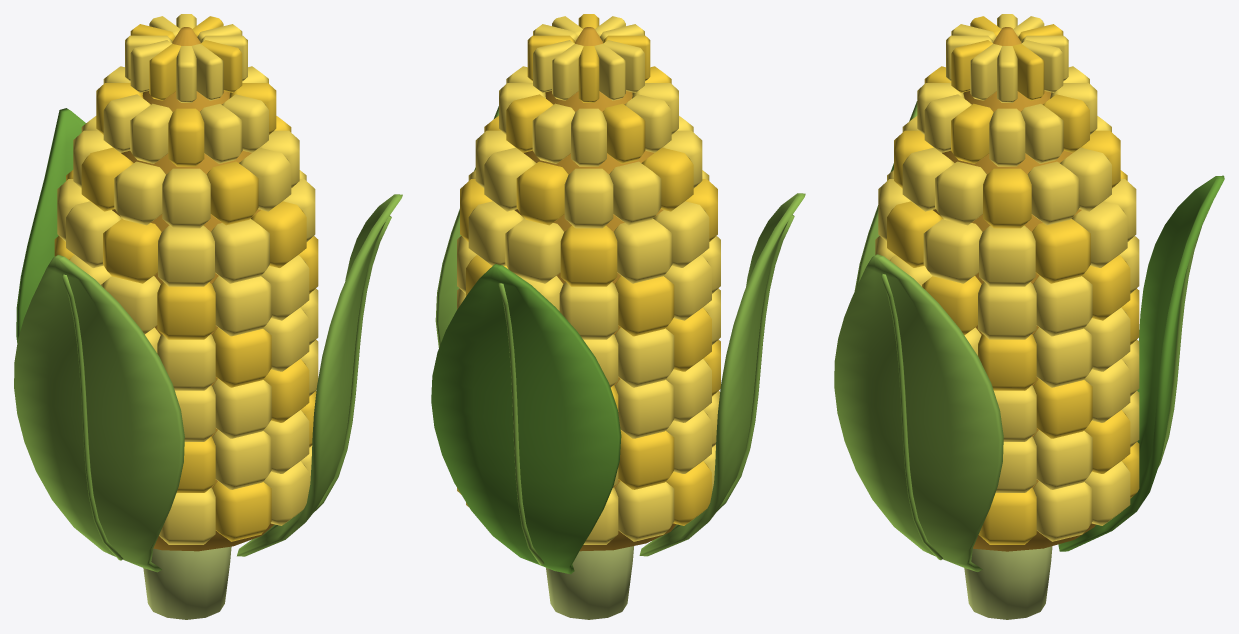
File: corn.glb
3 renders of one model, left to right at view 1: azimuth 30°, elevation 25°; view 2: azimuth 150°, elevation 25°; view 3: azimuth 270°, elevation 25°, orthographic.
Visible parts, largest first — view 1: kernel-rows, folded-husks, cut-stalk, cob-core, husk-veins; view 2: kernel-rows, folded-husks, cut-stalk, husk-veins, cob-core; view 3: kernel-rows, folded-husks, cut-stalk, cob-core, husk-veins.
Boxes of the visible parts, x1,y1,x2,y2 form: kernel-rows: (54,14,318,544); folded-husks: (14,108,402,572); cut-stalk: (143,546,231,619); cob-core: (112,27,274,551); husk-veins: (62,216,391,560); kernel-rows: (457,14,720,544); folded-husks: (431,106,805,574); cut-stalk: (546,546,633,619); husk-veins: (498,215,794,565); cob-core: (514,27,676,551); kernel-rows: (875,14,1139,544); folded-husks: (834,101,1224,571); cut-stalk: (964,546,1052,619); cob-core: (933,27,1095,551); husk-veins: (881,202,1212,560).
Size of the model in its own units: 0.6062 by 1 by 0.6161.
